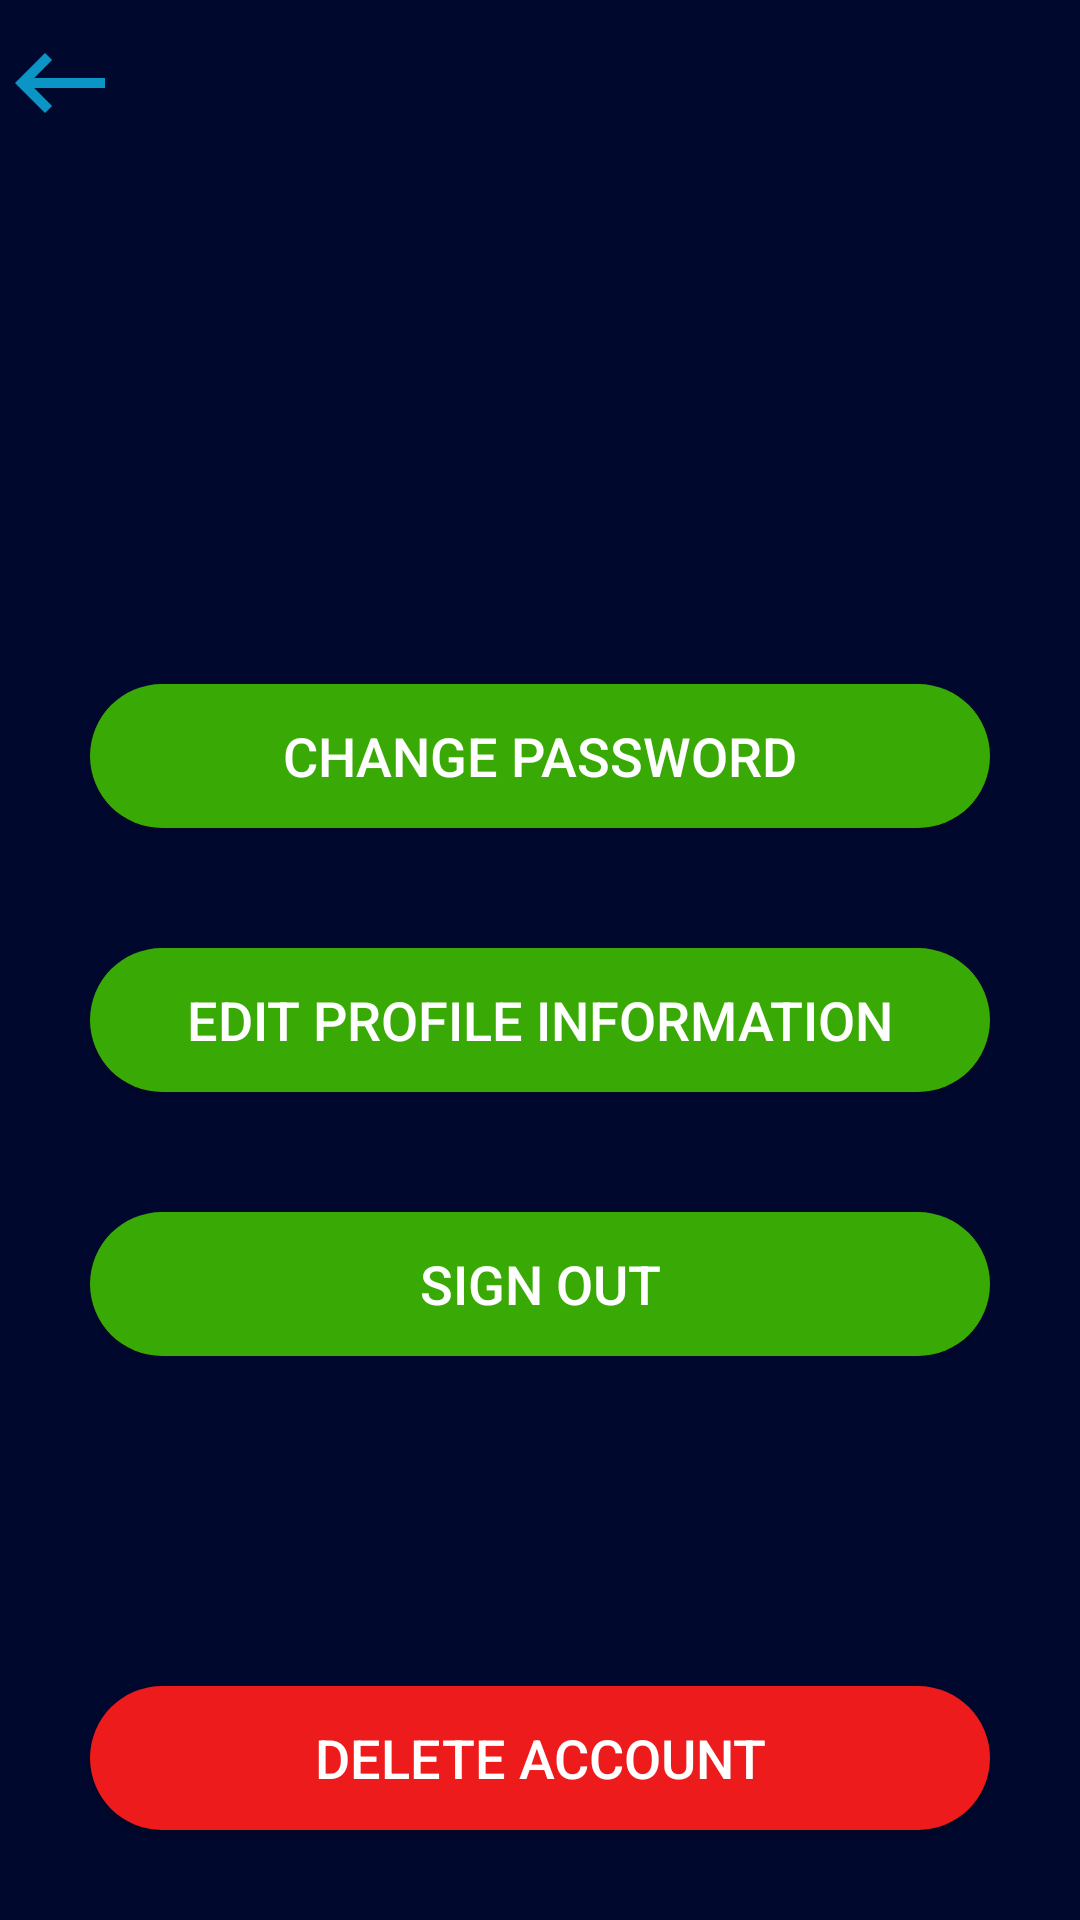

Where icons sit on this 1080px×1920px app screen, as (x1, y1, x2, y2):
arrow back short: (15, 53, 105, 113)
